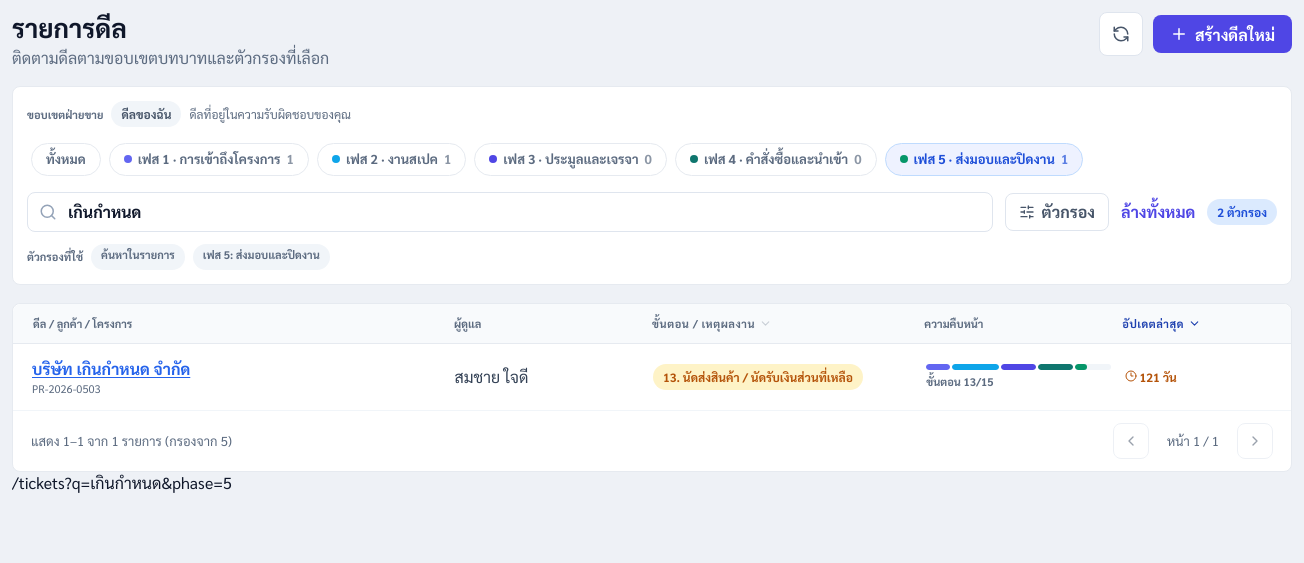
Scenario: TicketListPage › keeps search and phase filters URL-backed in the consolidated filter bar
expect the link "บริษัท เกินกำหนด จำกัด" is shown: met, box [32,358,190,379]
expect the text "ค้นหาในรายการ" is shown: met, box [91,244,185,270]
Replace the text in the search field named "ค้นหาดีล" with "พักไว้" at point(510, 212), box [27,192,993,232]
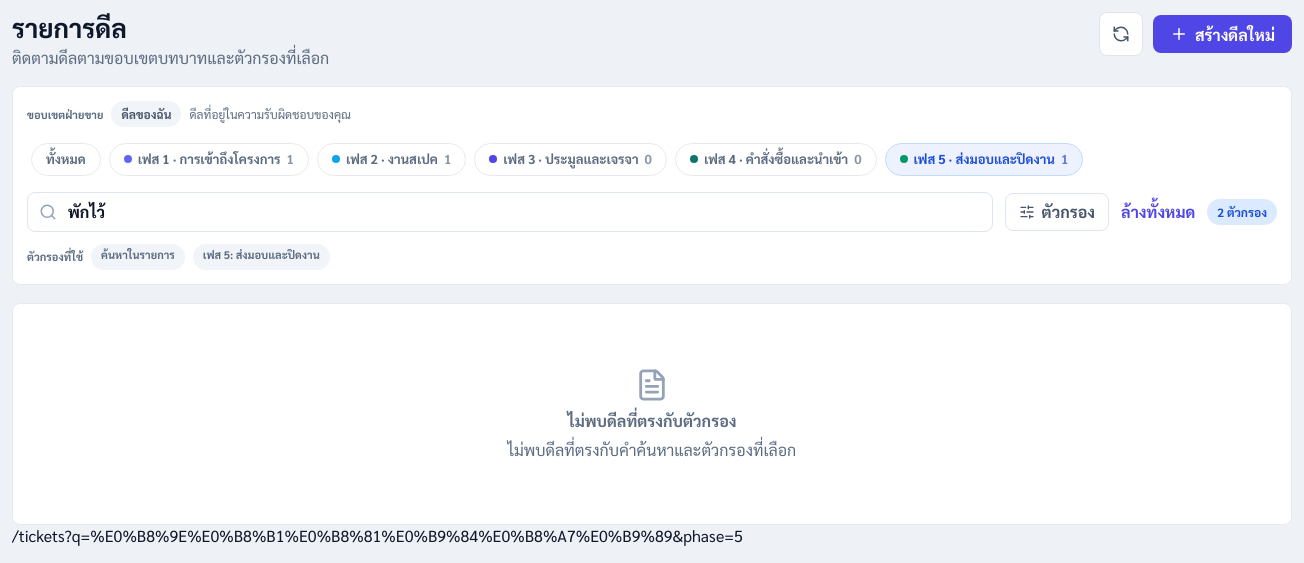
expect the text with test id "location-display" shows "q=%E0%B8%9E%E0%B8%B1%E0%B8%81%E0%B9%84%E0%B8%A7%E0%B9%89": met, box [65,525,743,546]
Click the button "เฟส 4 · คำสั่งซื้อและนำเข้า 0" at point(776, 160), box [675,143,876,176]
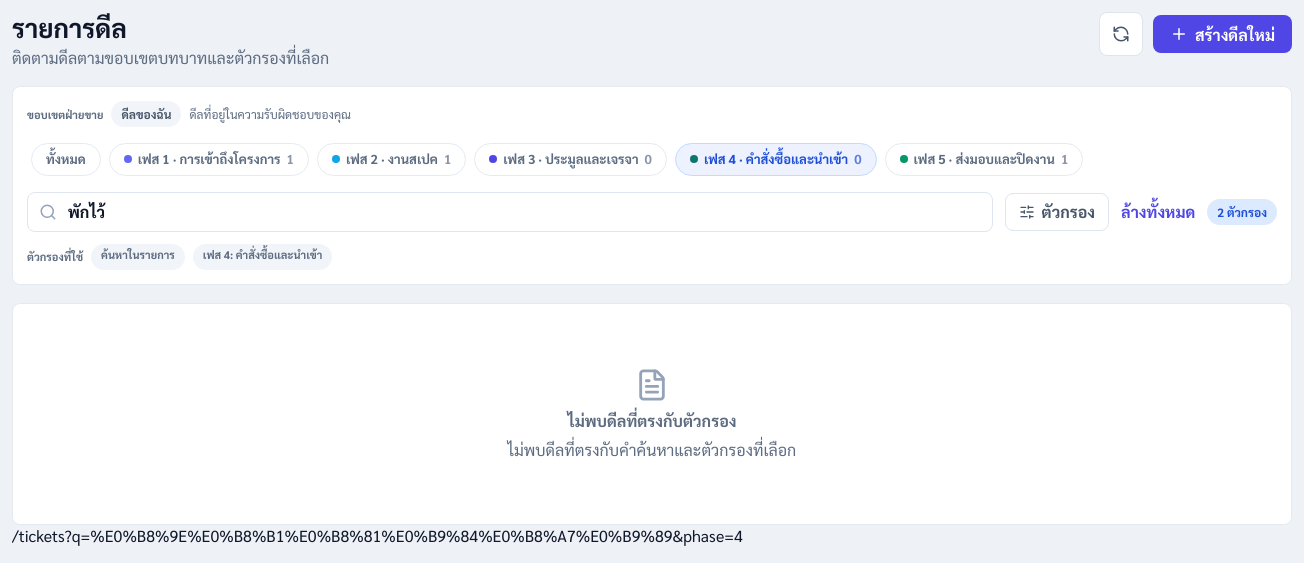
expect the text with test id "location-display" shows "phase=4": met, box [65,525,743,546]
